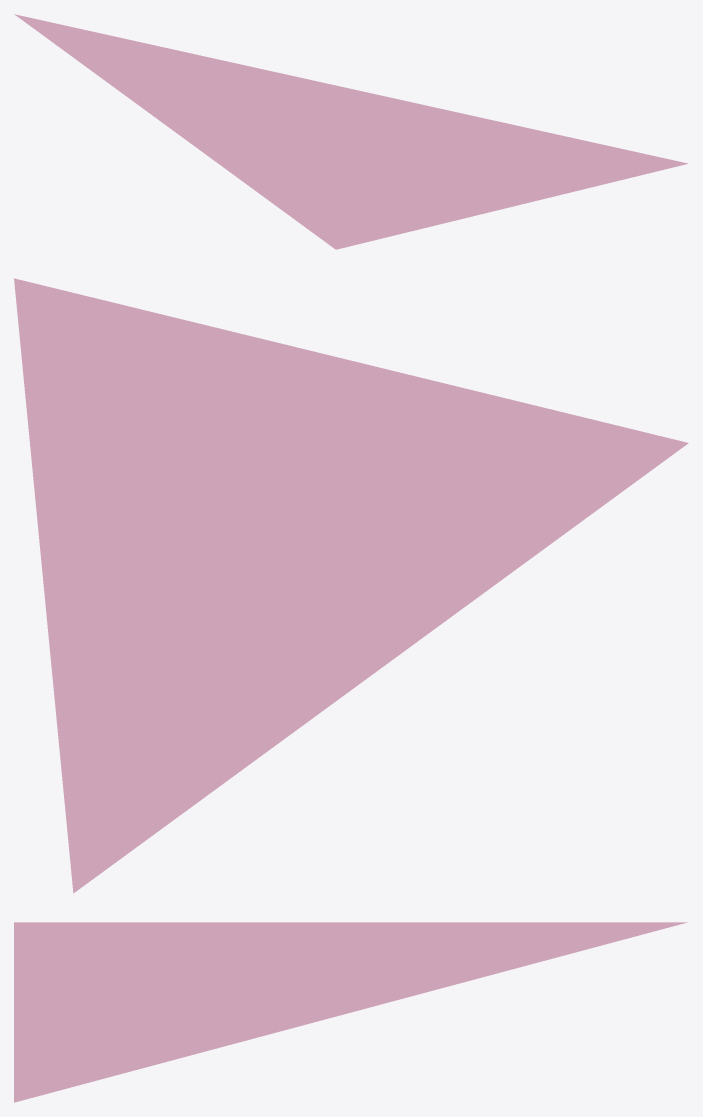
The model's file is Sidewalk.Tile.004.fbx.
3 views of the same model, one above another, from view 1: azimuth 30°, elevation 25°; view 2: azimuth 150°, elevation 25°; view 3: azimuth 270°, elevation 25° (orthographic). The views are drawn at different scales.
Visible parts, largest first — view 1: Sidewalk.Tile.004; view 2: Sidewalk.Tile.004; view 3: Sidewalk.Tile.004.
Part boxes in pixels (x1=…): Sidewalk.Tile.004: x1=14, y1=14, x2=687, y2=249; Sidewalk.Tile.004: x1=14, y1=278, x2=688, y2=893; Sidewalk.Tile.004: x1=14, y1=922, x2=687, y2=1102.
Size of the model in its own units: 300 by 190 by 2.62e-05.
